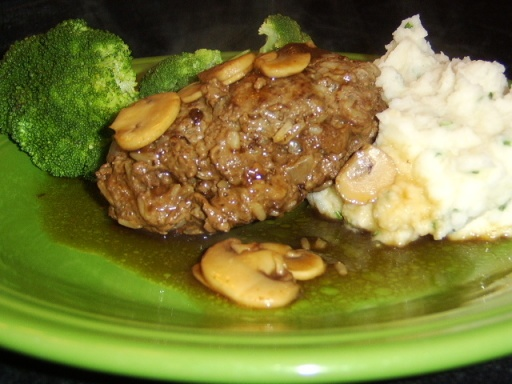background: (0, 7, 410, 148), (109, 43, 261, 184)
